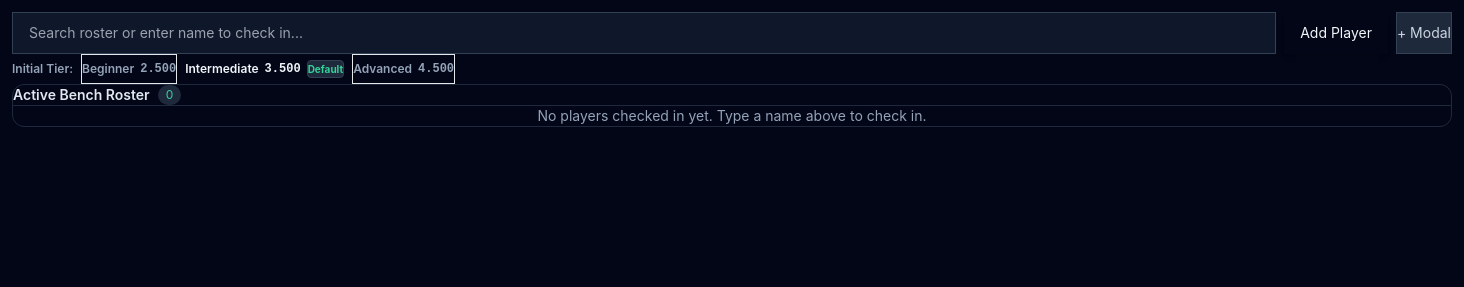
Test case: RosterCheckInList › checks in a resting player when their exact name is re-submitted
This screenshot has width=1464, height=287.
Check in player
Type "Jonatan Christie" into the field with placeholder "Search roster or enter name to check in..." at (644,33), box [12, 12, 1276, 54]
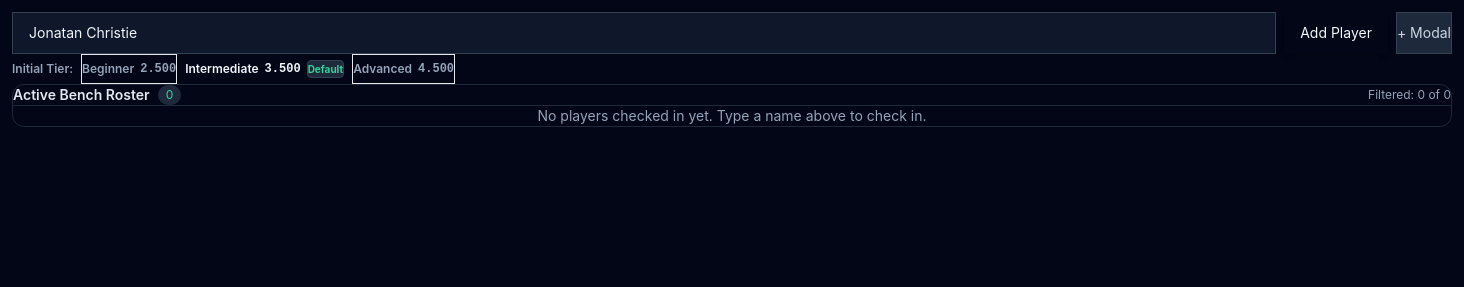
Click the button "Add Player" at (1336,33), box [1284, 12, 1388, 54]
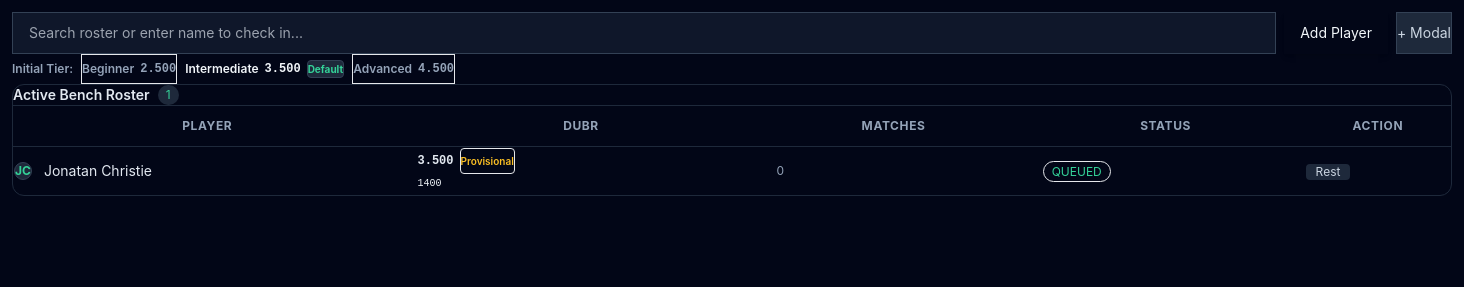
Check: the text "Jonatan Christie" is shown, box [44, 161, 152, 181]
Click the button with aria-label "Toggle status for Jonatan Christie" at (1328,172), box [1306, 164, 1350, 180]
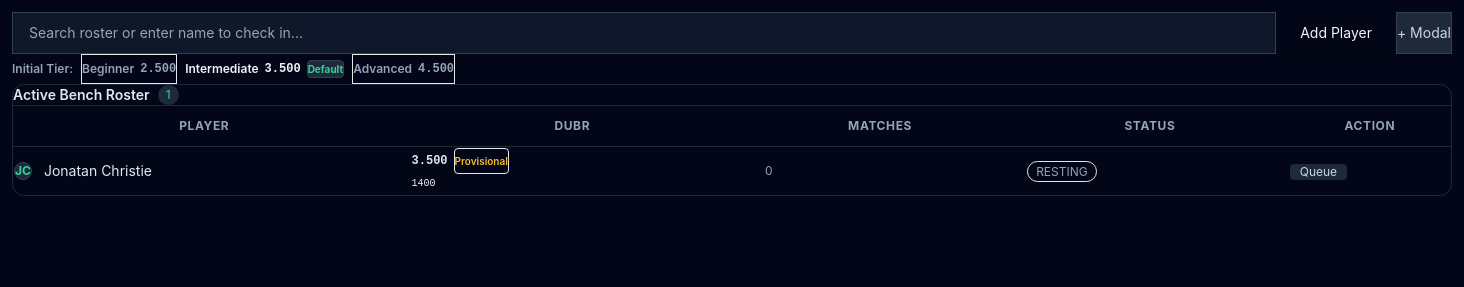
Check: the text "RESTING" is shown, box [1027, 161, 1097, 182]
Type full name and click Add Player again
Type "Jonatan Christie" into the field with placeholder "Search roster or enter name to check in..." at (644,33), box [12, 12, 1276, 54]
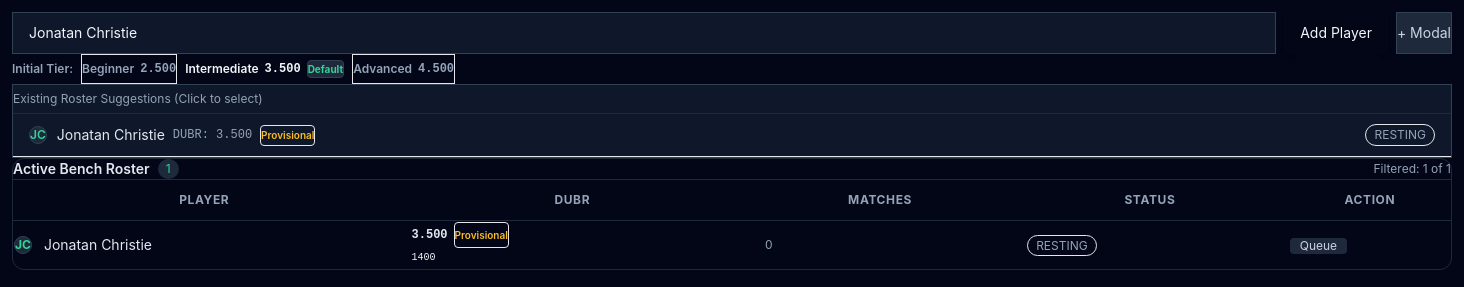
Click the button "Add Player" at (1336,33), box [1284, 12, 1388, 54]
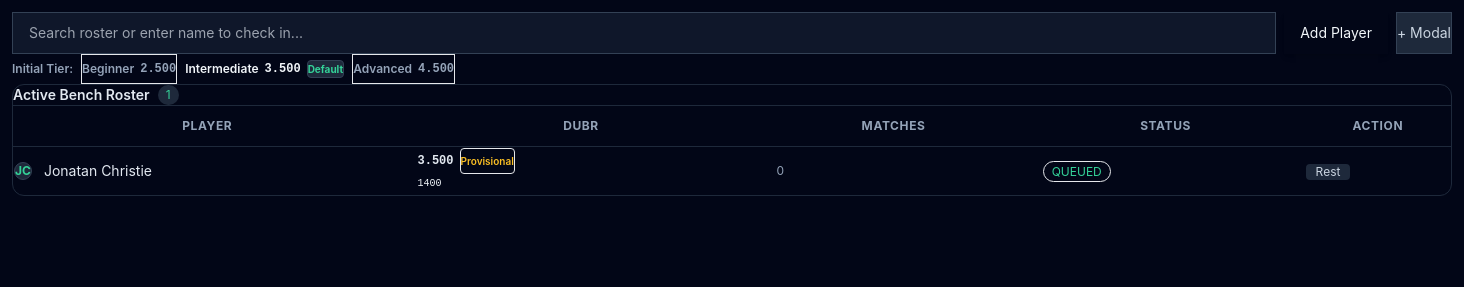
Check: the text "Jonatan Christie" is shown once, box [44, 161, 152, 181]
Check: the text "QUEUED" is shown, box [1043, 161, 1111, 182]
